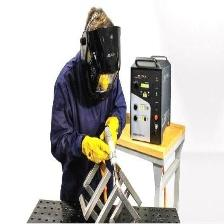Person: (63, 4, 127, 199)
